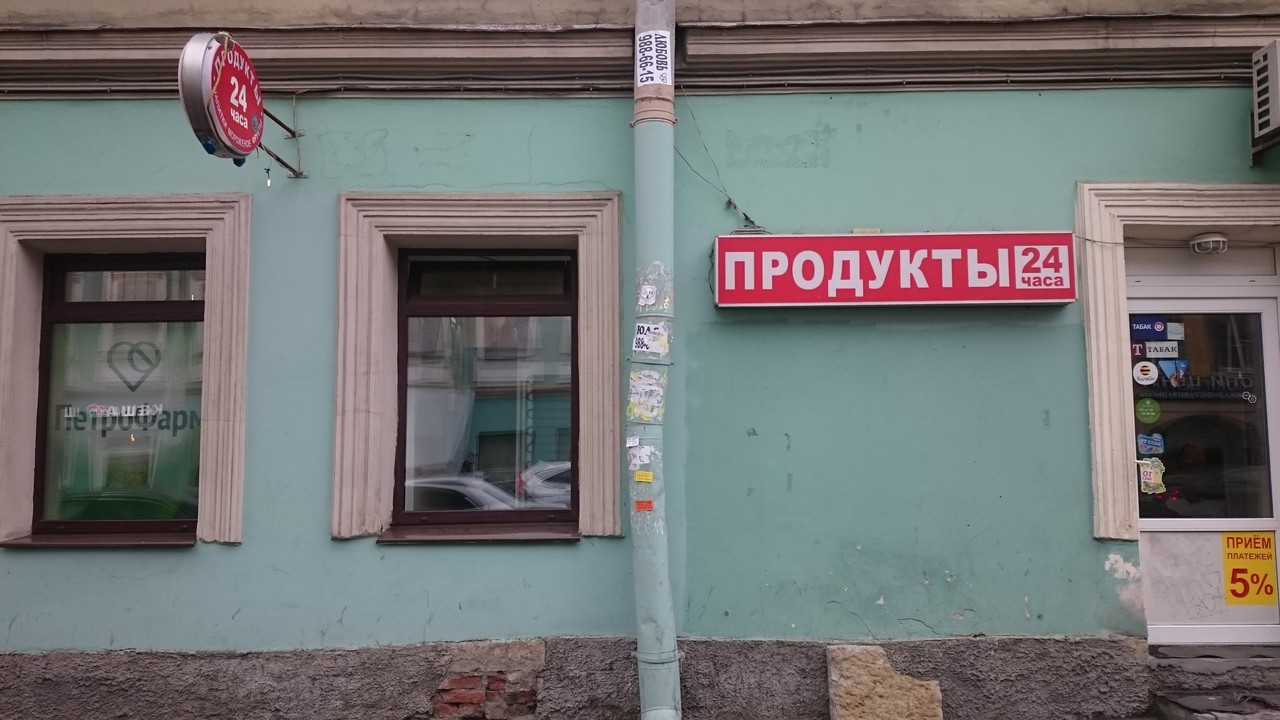cantilever: (179, 27, 308, 164)
signboard: (715, 228, 1076, 308)
window: (393, 252, 576, 527), (32, 258, 203, 531)
